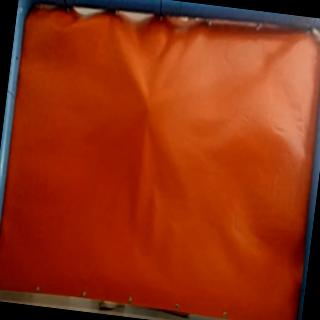Hit-hRxx: (138, 94, 159, 117)
